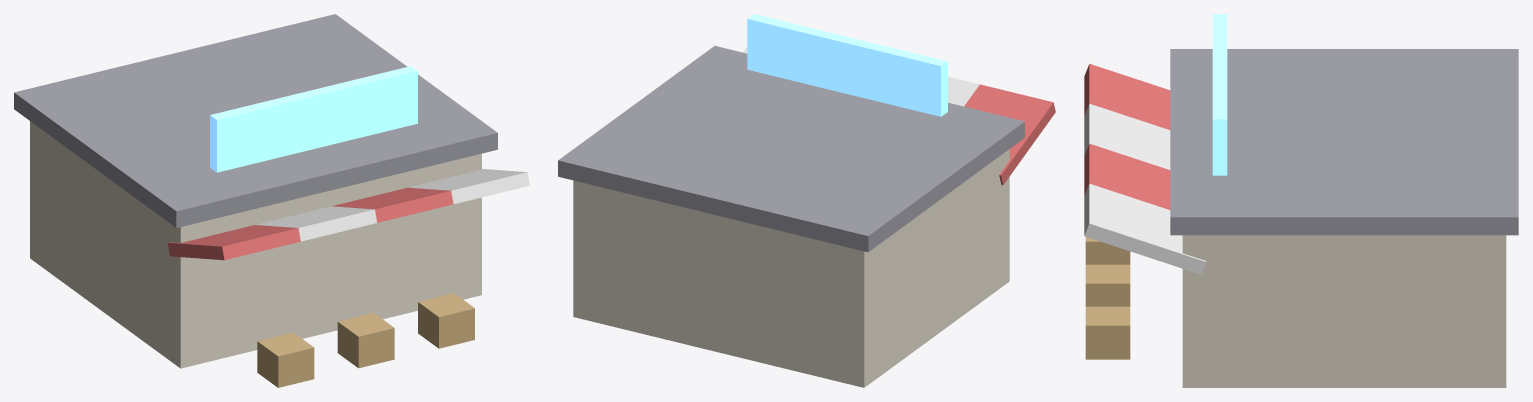
Rendered from market.glb.
The picture shows the model from 3 angles, left to right: view 1: azimuth 30°, elevation 25°; view 2: azimuth 150°, elevation 25°; view 3: azimuth 270°, elevation 25°; orthographic projection. The views are drawn at different scales.
Parts seen in each view (by area): view 1: box.001, box.002, box.007, box.003, box.008, box.009, box, box.004, box.005, box.006; view 2: box.001, box.002, box.007, box.003, box.004; view 3: box.002, box.001, box.006, box.003, box.004, box.005, box.007, box, box.009, box.008.
Boxes of the visible parts, <box> form: box.001: <box>30,121,481,368</box>; box.002: <box>14,14,497,227</box>; box.007: <box>210,66,417,172</box>; box.003: <box>167,225,300,260</box>; box.008: <box>257,332,314,387</box>; box.009: <box>337,312,394,368</box>; box: <box>418,293,474,348</box>; box.004: <box>255,206,376,241</box>; box.005: <box>332,187,453,222</box>; box.006: <box>408,169,529,204</box>; box.001: <box>573,149,1009,387</box>; box.002: <box>558,46,1024,252</box>; box.007: <box>747,14,947,116</box>; box.003: <box>964,84,1055,184</box>; box.004: <box>948,76,979,106</box>; box.002: <box>1170,49,1518,235</box>; box.001: <box>1182,235,1506,387</box>; box.006: <box>1084,183,1206,274</box>; box.003: <box>1084,63,1170,129</box>; box.004: <box>1084,103,1170,169</box>; box.005: <box>1084,143,1170,209</box>; box.007: <box>1212,14,1227,175</box>; box: <box>1085,306,1130,359</box>; box.009: <box>1085,264,1130,306</box>; box.008: <box>1085,237,1130,264</box>.
Bounding box in the file's own units: 1.6 × 1.07 × 1.75.
